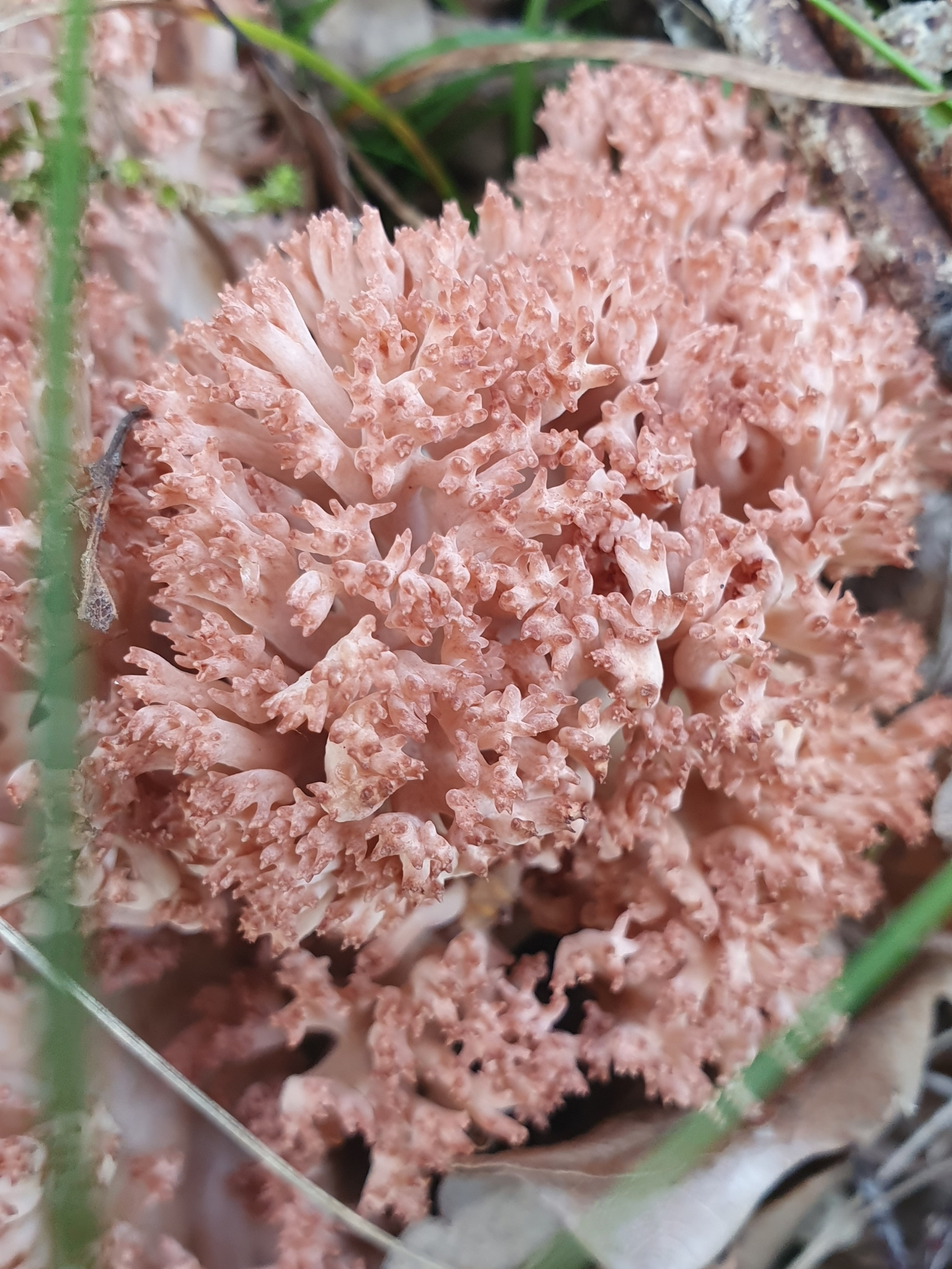Coral: (66, 12, 951, 1229), (0, 202, 54, 935)
